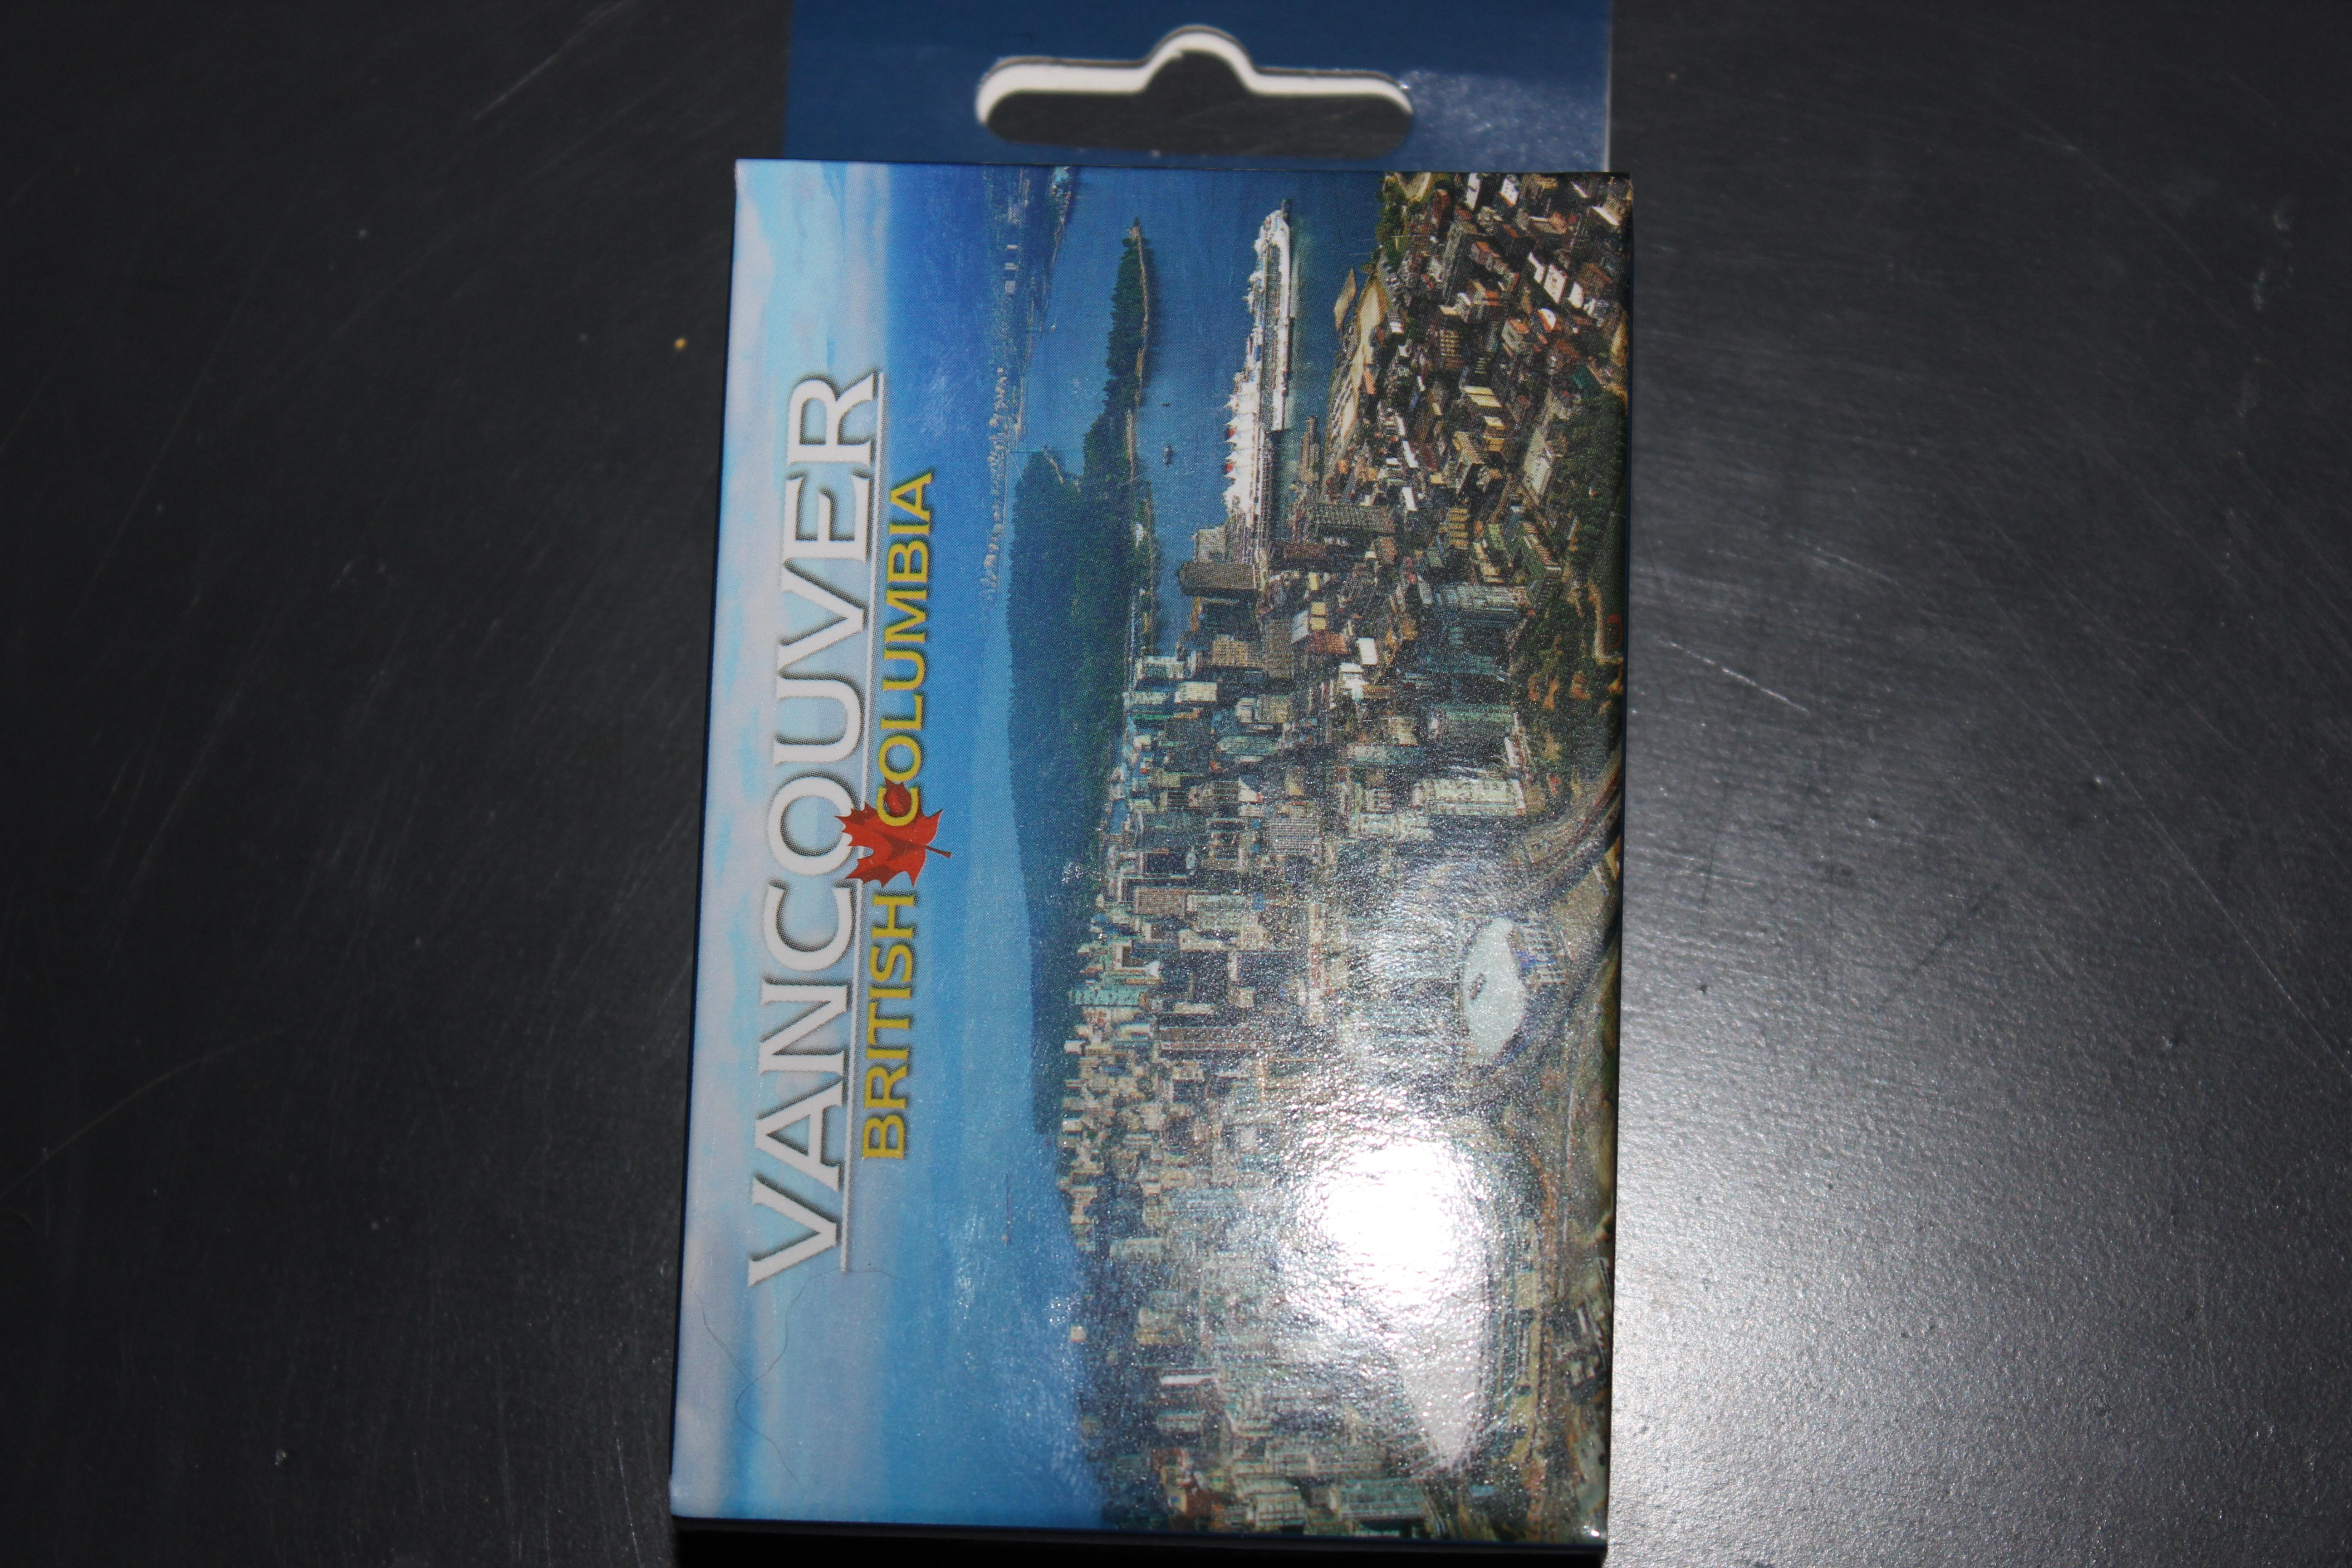vancouverCards: (616, 3, 1657, 1568)
